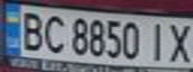0: (121, 18, 145, 61)
5: (103, 17, 124, 60)
8: (66, 15, 90, 56), (87, 16, 106, 57)
B: (15, 8, 48, 52)
C: (39, 12, 69, 54)
I: (145, 19, 169, 62)
X: (163, 19, 193, 63)
